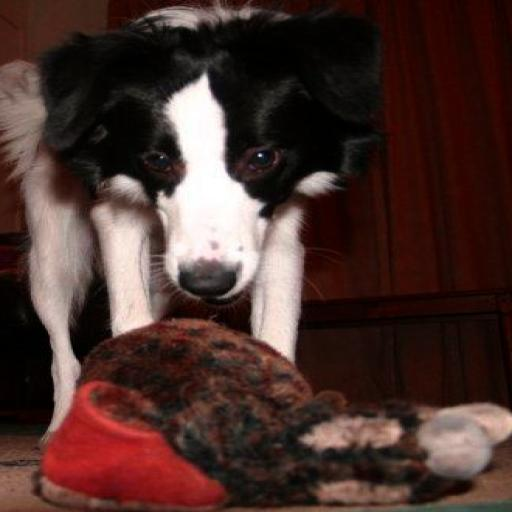dog_face: (48, 12, 365, 294)
